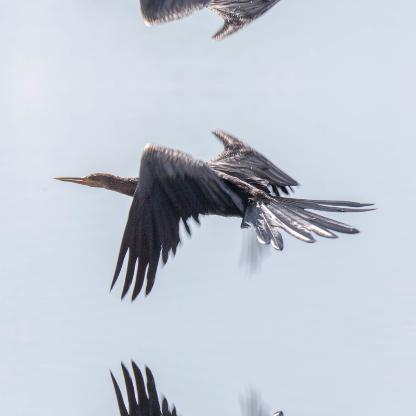Bird: (56, 124, 374, 300), (56, 360, 375, 415), (56, 0, 375, 45)
